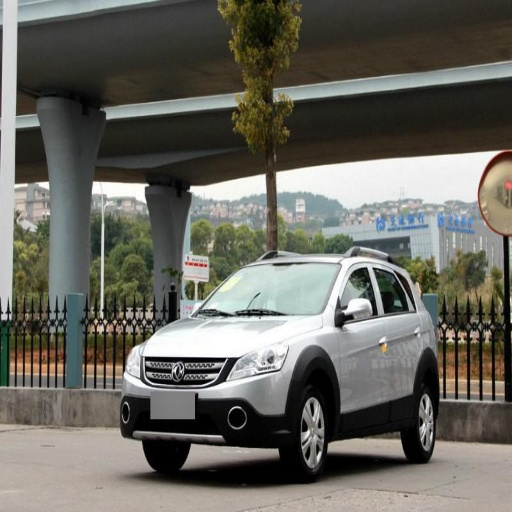back_glass: (115, 35, 229, 101)
front_bumper: (119, 347, 293, 443)
front_glass: (194, 264, 338, 315)
front_left_door: (336, 261, 389, 420)
